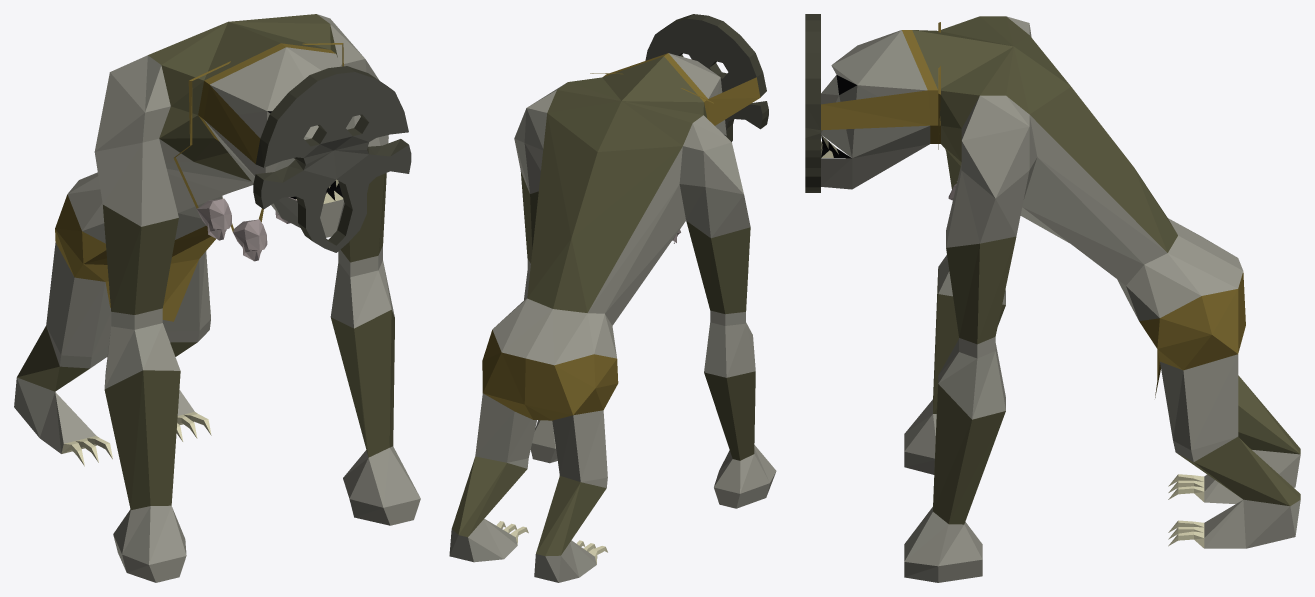
File: cave_horror.glb
The picture shows the model from 3 angles, left to right: view 1: azimuth 30°, elevation 25°; view 2: azimuth 150°, elevation 25°; view 3: azimuth 270°, elevation 25°; orthographic projection. The views are drawn at different scales.
Size of the model in its own units: 124 by 210 by 190.
Materials: 1 (1 with a texture image).
